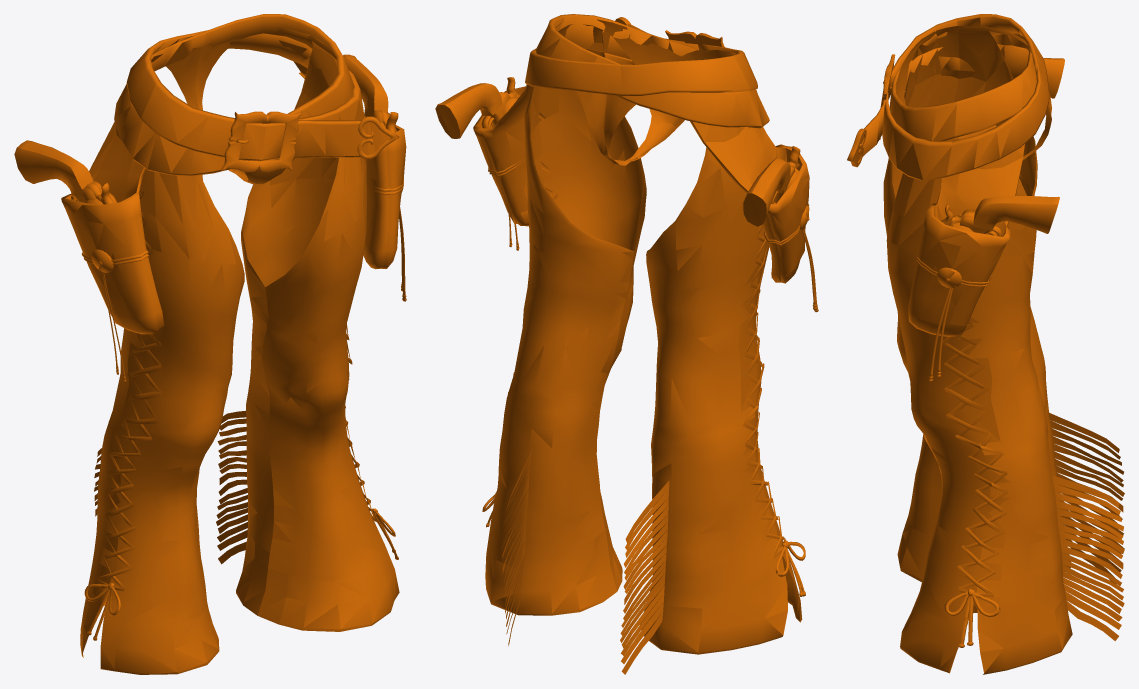
The model's file is calça1.glb.
3 renders of one model, left to right at view 1: azimuth 30°, elevation 25°; view 2: azimuth 150°, elevation 25°; view 3: azimuth 270°, elevation 25°, orthographic. The views are drawn at different scales.
Visible parts, largest first — view 1: hash_AD5B91CF.model; view 2: hash_AD5B91CF.model; view 3: hash_AD5B91CF.model.
Part boxes in pixels (<box>): hash_AD5B91CF.model: <box>14,14,406,674</box>; hash_AD5B91CF.model: <box>435,14,818,674</box>; hash_AD5B91CF.model: <box>847,14,1124,674</box>.
Size of the model in its own units: 0.6433 by 1.06 by 0.4737.
